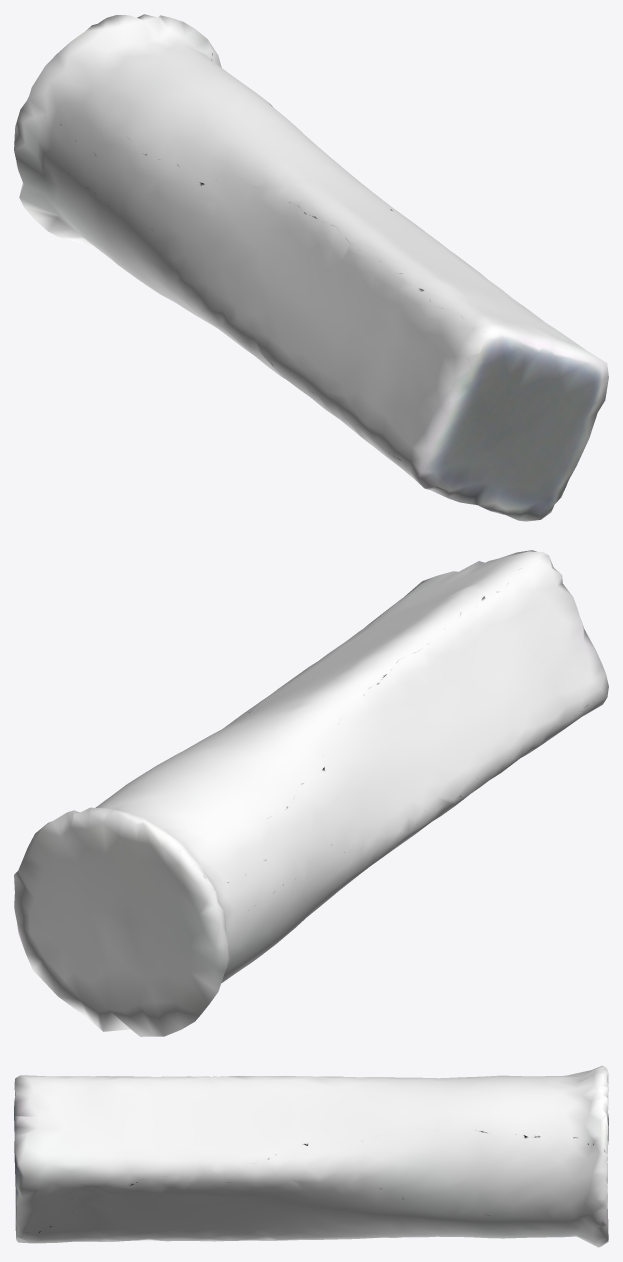
The model's file is scan_align.obj.
3 renders of one model, top to bottom at view 1: azimuth 30°, elevation 25°; view 2: azimuth 150°, elevation 25°; view 3: azimuth 270°, elevation 25°, orthographic. The views are drawn at different scales.
Bounding box in the file's own units: 0.0271 × 0.0272 × 0.0886.
Materials: 1 (1 with a texture image).
